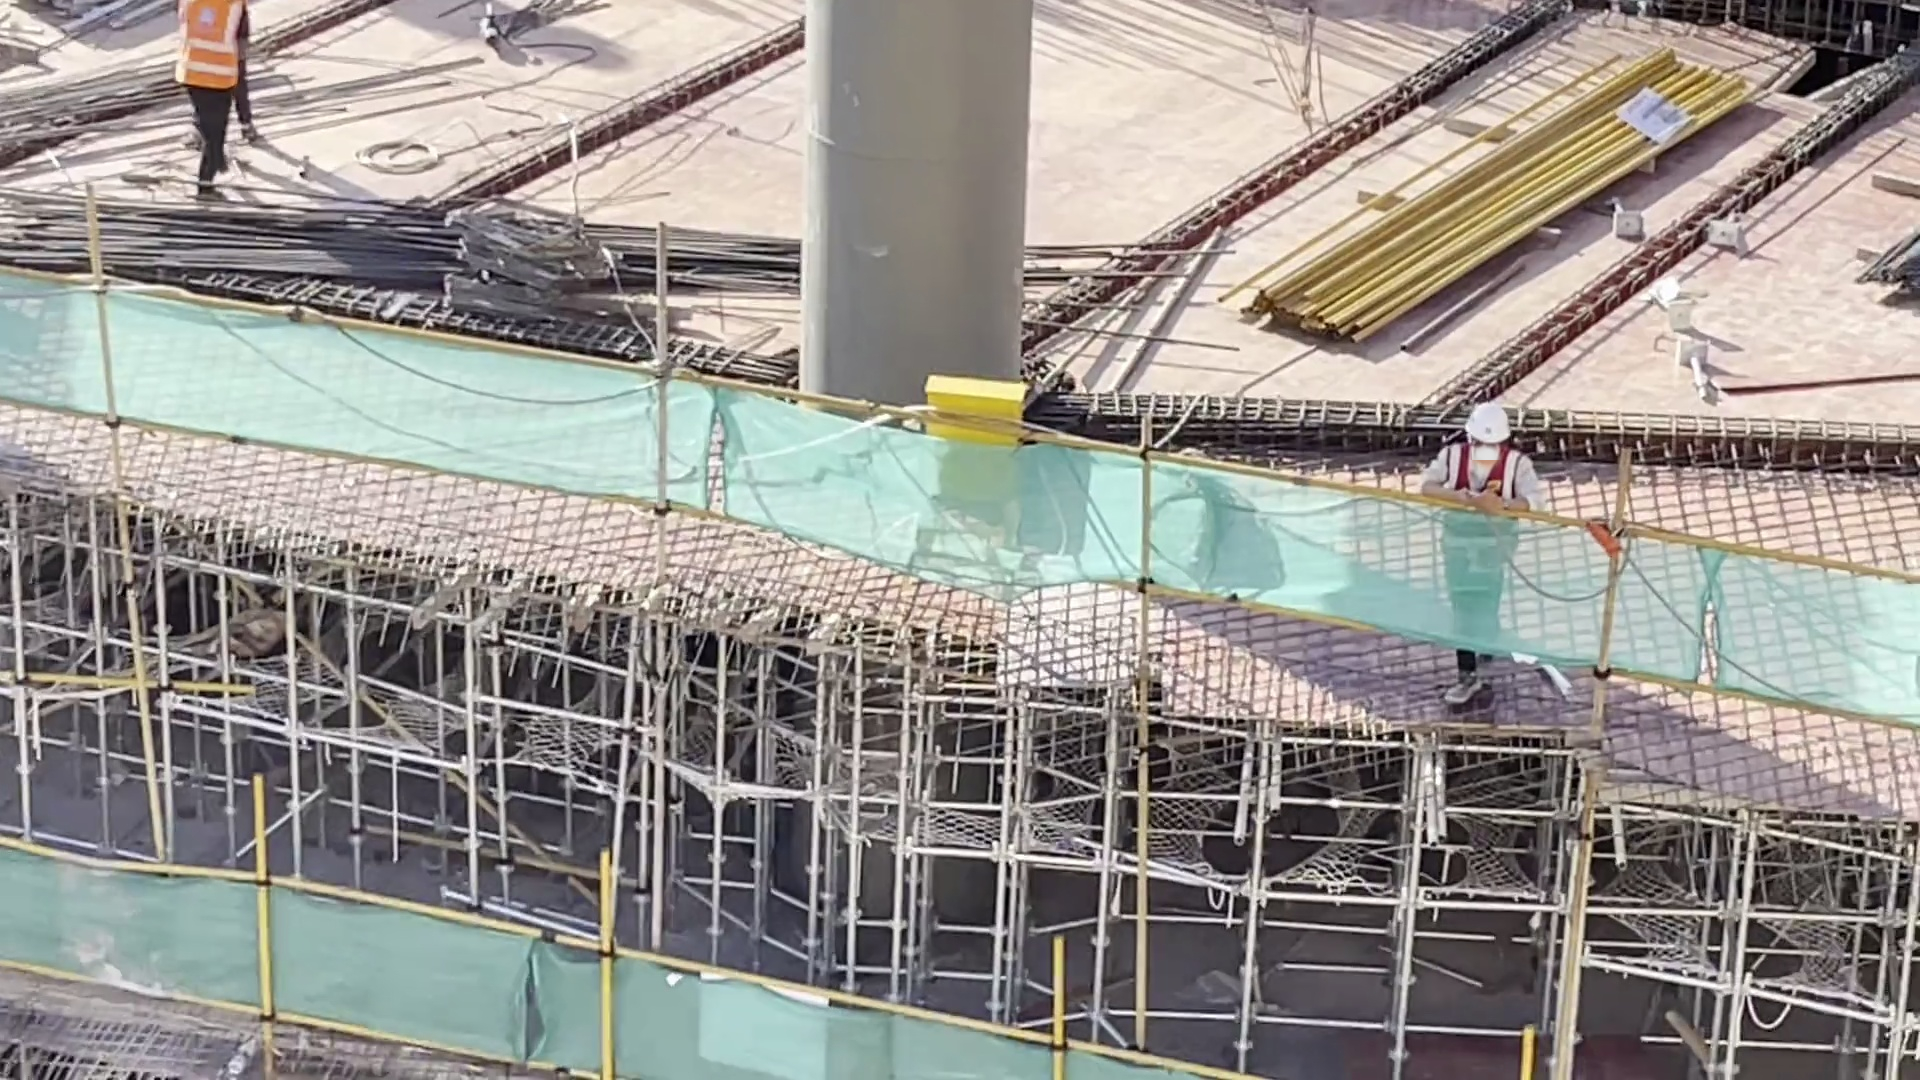ebox: (933, 371, 1032, 535)
helmet: (1472, 401, 1509, 450)
person: (1404, 390, 1540, 730), (160, 1, 257, 208)
vest: (1449, 441, 1526, 587), (167, 1, 246, 113)
